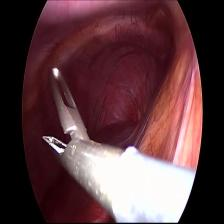Grasper: (39, 64, 101, 193)
